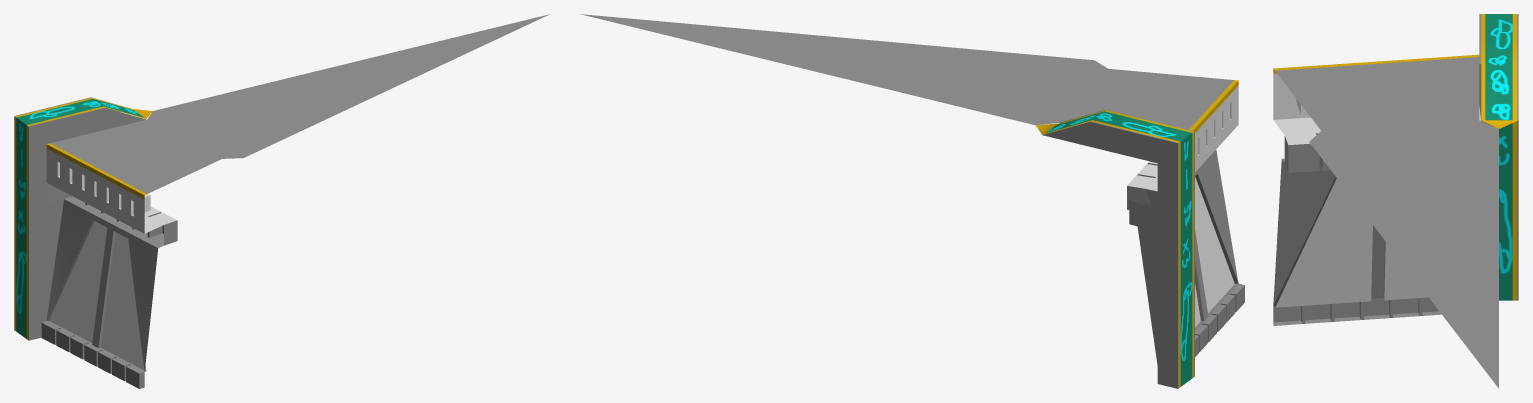
Rendered from SecondFloorSegment.fbx.
3 views of the same model, side by side, from view 1: azimuth 30°, elevation 25°; view 2: azimuth 150°, elevation 25°; view 3: azimuth 270°, elevation 25° (orthographic). The views are drawn at different scales.
Visible parts, largest first — view 1: SecondFloorSegment; view 2: SecondFloorSegment; view 3: SecondFloorSegment.
Part boxes in pixels (left/top/right/bottom): SecondFloorSegment: left=14, top=14, right=549, bottom=388; SecondFloorSegment: left=580, top=14, right=1244, bottom=388; SecondFloorSegment: left=1273, top=14, right=1518, bottom=388.
Bounding box in the file's own units: 569 × 220 × 171.
